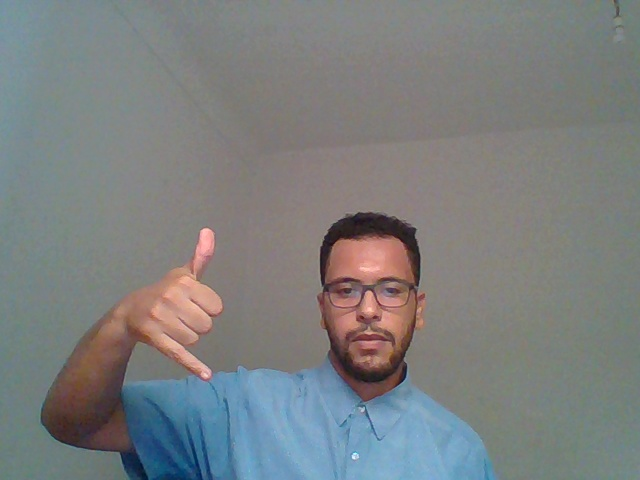callme: (76, 197, 273, 427)
